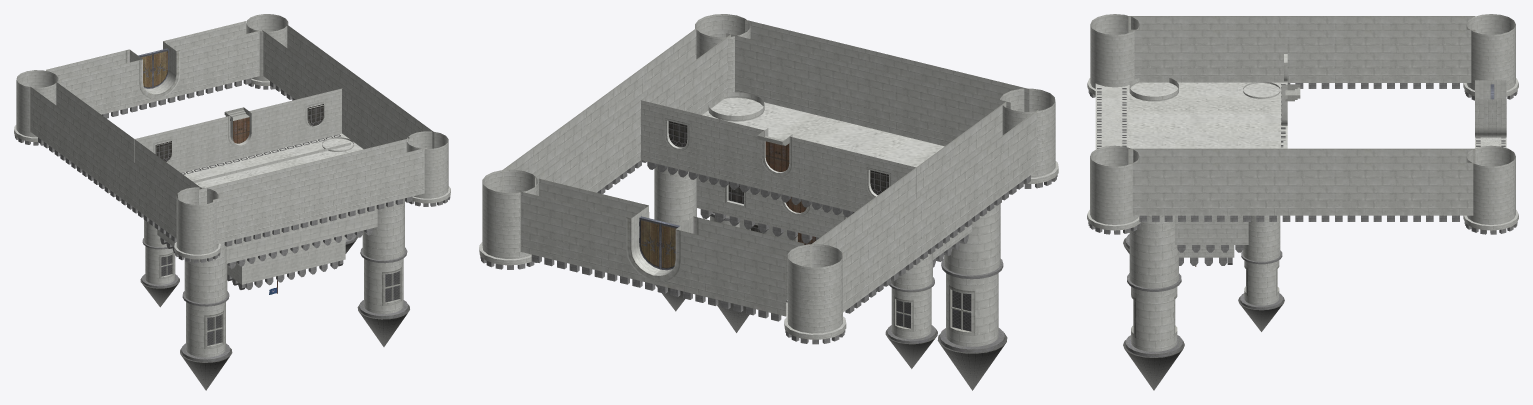
File: castle.obj
The picture shows the model from 3 angles, left to right: view 1: azimuth 30°, elevation 25°; view 2: azimuth 150°, elevation 25°; view 3: azimuth 270°, elevation 25°; orthographic projection. The views are drawn at different scales.
Visible parts, largest first — view 1: Castle_Exterior, Castle_Interior, Towers_Doors_and_Windows; view 2: Castle_Exterior, Castle_Interior, Towers_Doors_and_Windows; view 3: Castle_Exterior, Castle_Interior, Towers_Doors_and_Windows.
Boxes of the visible parts, x1,y1,x2,y2 form: Castle_Exterior: [14, 14, 450, 262]; Castle_Interior: [134, 88, 377, 294]; Towers_Doors_and_Windows: [138, 48, 409, 390]; Castle_Exterior: [479, 14, 1058, 344]; Castle_Interior: [641, 97, 971, 291]; Towers_Doors_and_Windows: [639, 92, 1007, 390]; Castle_Exterior: [1087, 14, 1518, 234]; Castle_Interior: [1128, 54, 1287, 266]; Towers_Doors_and_Windows: [1123, 78, 1494, 390].
Size of the model in its own units: 53.37 by 40.26 by 62.77.
